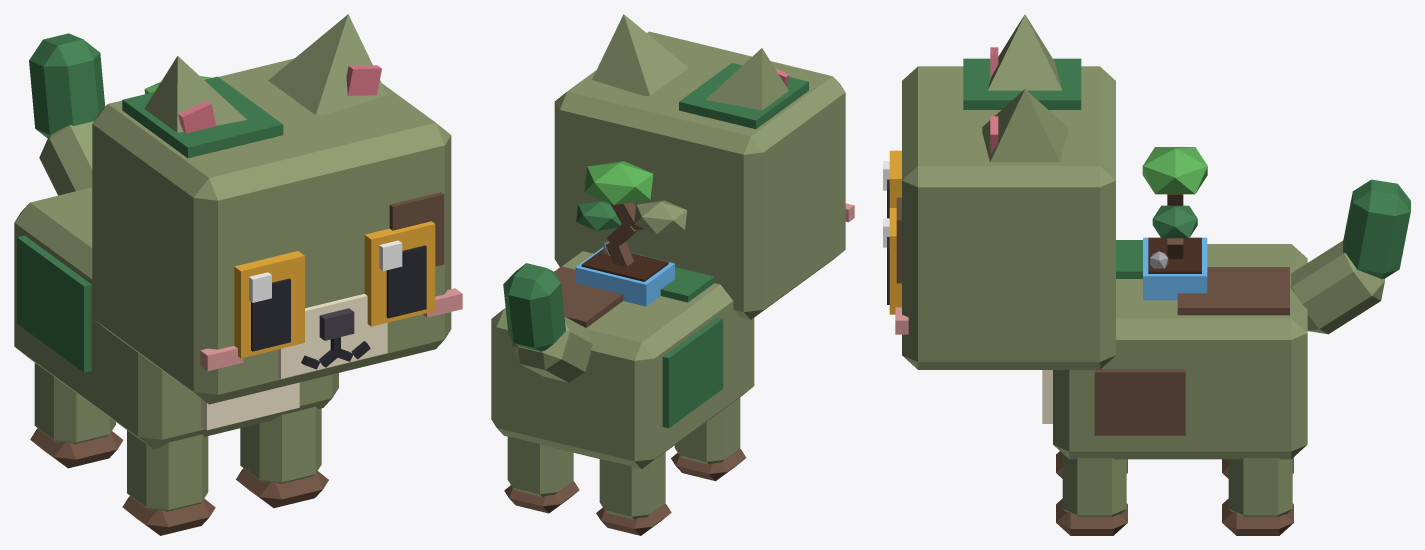
Rendered from CatCafe_Cat_Bonsai.fbx.
3 views of the same model, side by side, from view 1: azimuth 30°, elevation 25°; view 2: azimuth 150°, elevation 25°; view 3: azimuth 270°, elevation 25° (orthographic). The views are drawn at different scales.
Parts seen in each view (by area): view 1: CatCafe_Cat_Bonsai_Head, CatCafe_Cat_Bonsai_Body, CatCafe_Cat_Bonsai_Tail, CatCafe_Cat_Bonsai_LegF2, CatCafe_Cat_Bonsai_LegF1, CatCafe_Cat_Bonsai_Eye2, CatCafe_Cat_Bonsai_Eye1, CatCafe_Cat_Bonsai_EarL, CatCafe_Cat_Bonsai_LegB2, CatCafe_Cat_Bonsai_EarR; view 2: CatCafe_Cat_Bonsai_Head, CatCafe_Cat_Bonsai_Body, CatCafe_Cat_Bonsai_Prop, CatCafe_Cat_Bonsai_Tail, CatCafe_Cat_Bonsai_LegB2, CatCafe_Cat_Bonsai_EarL, CatCafe_Cat_Bonsai_LegB1, CatCafe_Cat_Bonsai_LegF2, CatCafe_Cat_Bonsai_EarR; view 3: CatCafe_Cat_Bonsai_Head, CatCafe_Cat_Bonsai_Body, CatCafe_Cat_Bonsai_Tail, CatCafe_Cat_Bonsai_Prop, CatCafe_Cat_Bonsai_LegF1, CatCafe_Cat_Bonsai_LegB1, CatCafe_Cat_Bonsai_EarL, CatCafe_Cat_Bonsai_EarR, CatCafe_Cat_Bonsai_Eye1, CatCafe_Cat_Bonsai_Eye2.
Boxes of the visible parts, <box> form: CatCafe_Cat_Bonsai_Head: <box>92,58,462,404</box>; CatCafe_Cat_Bonsai_Body: <box>14,187,338,449</box>; CatCafe_Cat_Bonsai_Tail: <box>29,33,105,195</box>; CatCafe_Cat_Bonsai_LegF2: <box>122,430,215,535</box>; CatCafe_Cat_Bonsai_LegF1: <box>236,406,328,507</box>; CatCafe_Cat_Bonsai_Eye2: <box>234,251,304,358</box>; CatCafe_Cat_Bonsai_Eye1: <box>364,221,435,326</box>; CatCafe_Cat_Bonsai_EarL: <box>268,14,387,115</box>; CatCafe_Cat_Bonsai_LegB2: <box>30,362,123,468</box>; CatCafe_Cat_Bonsai_EarR: <box>144,56,246,133</box>; CatCafe_Cat_Bonsai_Head: <box>554,31,854,319</box>; CatCafe_Cat_Bonsai_Body: <box>491,251,754,469</box>; CatCafe_Cat_Bonsai_Prop: <box>575,161,687,306</box>; CatCafe_Cat_Bonsai_Tail: <box>503,263,592,382</box>; CatCafe_Cat_Bonsai_LegB2: <box>596,452,671,535</box>; CatCafe_Cat_Bonsai_EarL: <box>592,14,688,95</box>; CatCafe_Cat_Bonsai_LegB1: <box>504,437,579,513</box>; CatCafe_Cat_Bonsai_LegF2: <box>671,397,746,481</box>; CatCafe_Cat_Bonsai_EarR: <box>705,48,789,110</box>; CatCafe_Cat_Bonsai_Head: <box>895,58,1115,369</box>; CatCafe_Cat_Bonsai_Body: <box>1042,240,1307,459</box>; CatCafe_Cat_Bonsai_Tail: <box>1291,179,1410,334</box>; CatCafe_Cat_Bonsai_Prop: <box>1142,147,1207,300</box>; CatCafe_Cat_Bonsai_LegF1: <box>1056,454,1127,535</box>; CatCafe_Cat_Bonsai_LegB1: <box>1222,458,1293,535</box>; CatCafe_Cat_Bonsai_EarL: <box>982,89,1067,162</box>; CatCafe_Cat_Bonsai_EarR: <box>987,14,1062,90</box>; CatCafe_Cat_Bonsai_Eye1: <box>883,208,901,314</box>; CatCafe_Cat_Bonsai_Eye2: <box>883,150,901,218</box>.
Bounding box in the file's own units: 1 × 1.86 × 1.97.
Materials: 1 (1 with a texture image).
